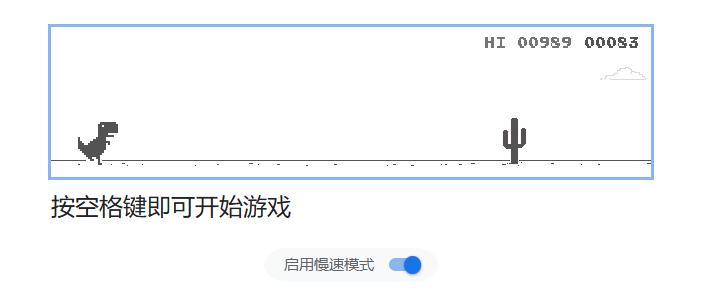cactus: (501, 116, 528, 166)
dino: (76, 121, 119, 165)
